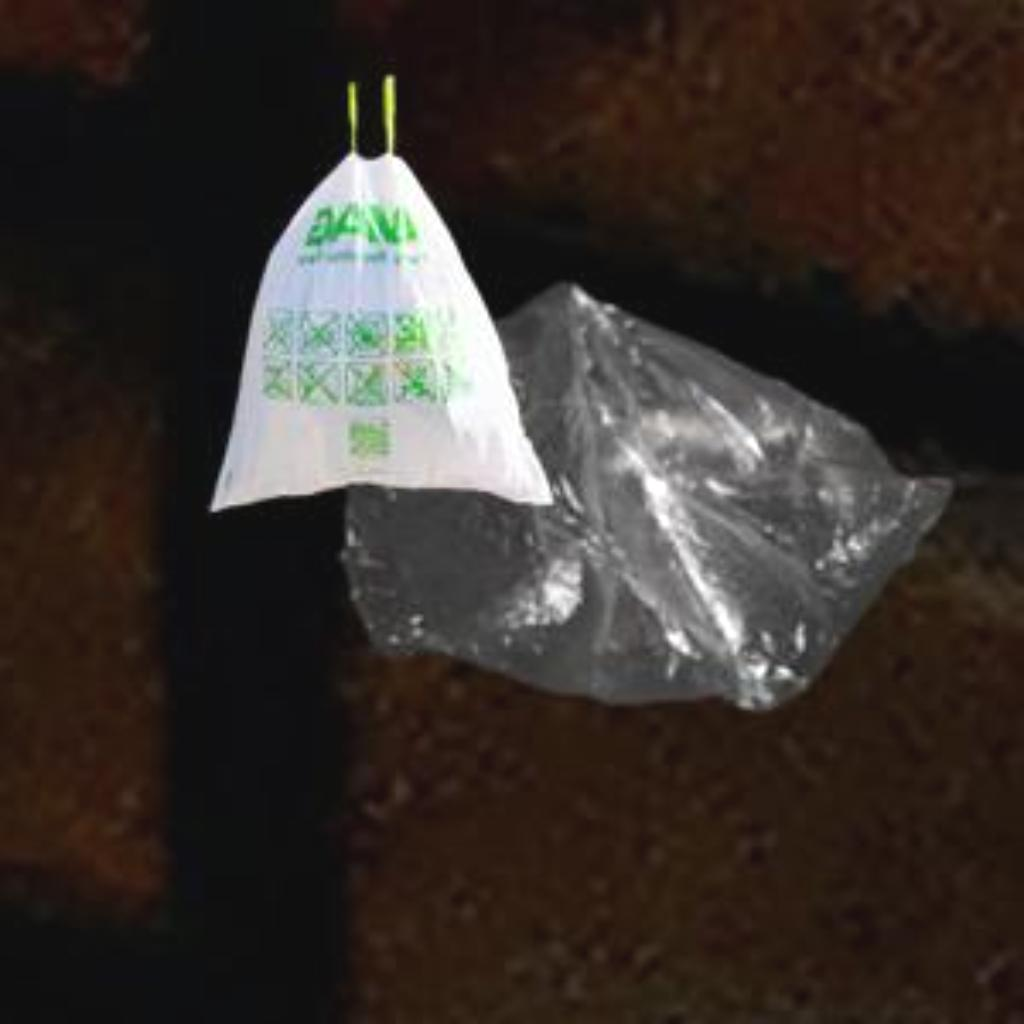garbage: (328, 256, 935, 730), (166, 70, 531, 544)
